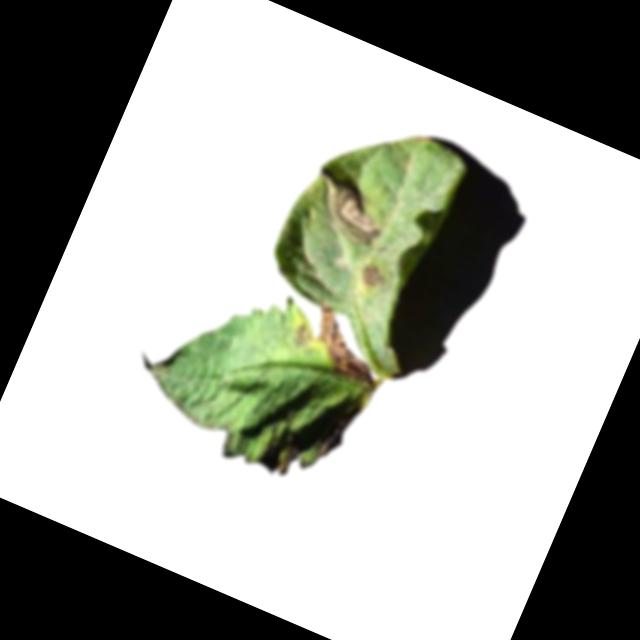Early_blight: (297, 296, 394, 389), (310, 174, 395, 250), (357, 259, 391, 293), (272, 441, 300, 478)
